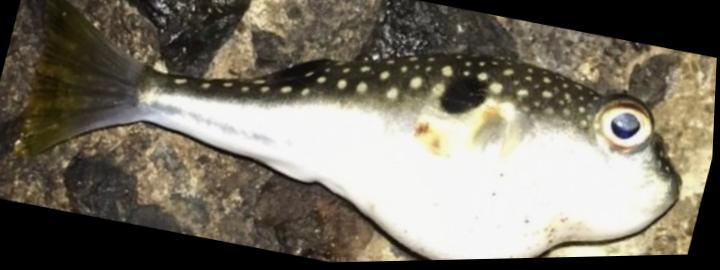fish: (22, 0, 681, 262)
